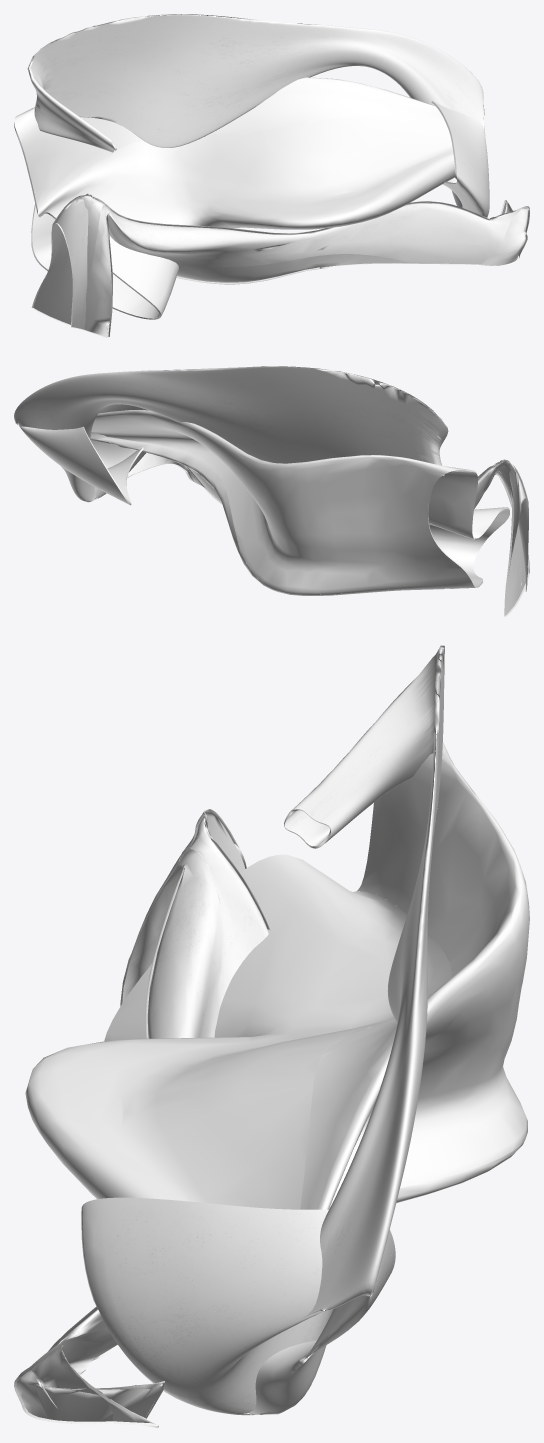
Rendered from -white-v65.glb.
The picture shows the model from 3 angles, top to bottom: view 1: azimuth 30°, elevation 25°; view 2: azimuth 150°, elevation 25°; view 3: azimuth 270°, elevation 25°; orthographic projection. The views are drawn at different scales.
Parts seen in each view (by area): view 1: Merged Objects, 冬 -black; view 2: 冬 -black, Merged Objects; view 3: 冬 -black, Merged Objects.
Boxes of the visible parts, box(x1,y1,x2,y2) form: Merged Objects: box(27, 14, 529, 337); 冬 -black: box(14, 77, 456, 319); 冬 -black: box(90, 410, 509, 595); Merged Objects: box(14, 366, 529, 616); 冬 -black: box(25, 742, 529, 1209); Merged Objects: box(14, 645, 444, 1428).
Bounding box in the file's own units: 2.94 × 1.43 × 1.47.
3 materials, 1 textured.
